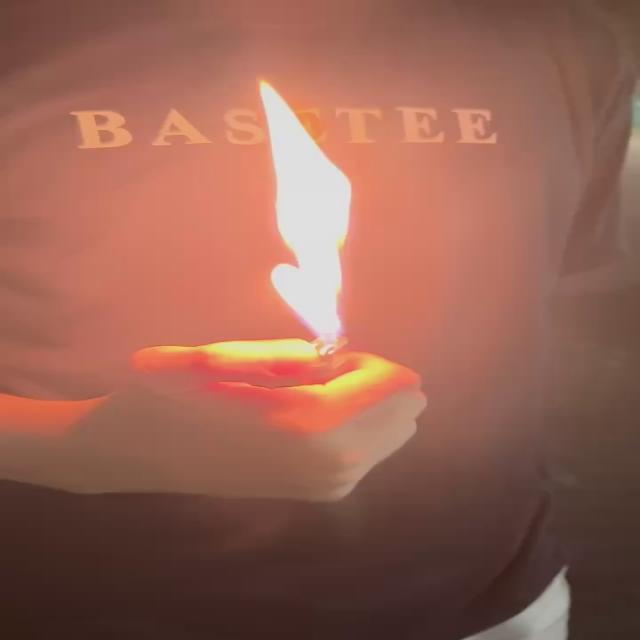Fire: (249, 79, 358, 346)
